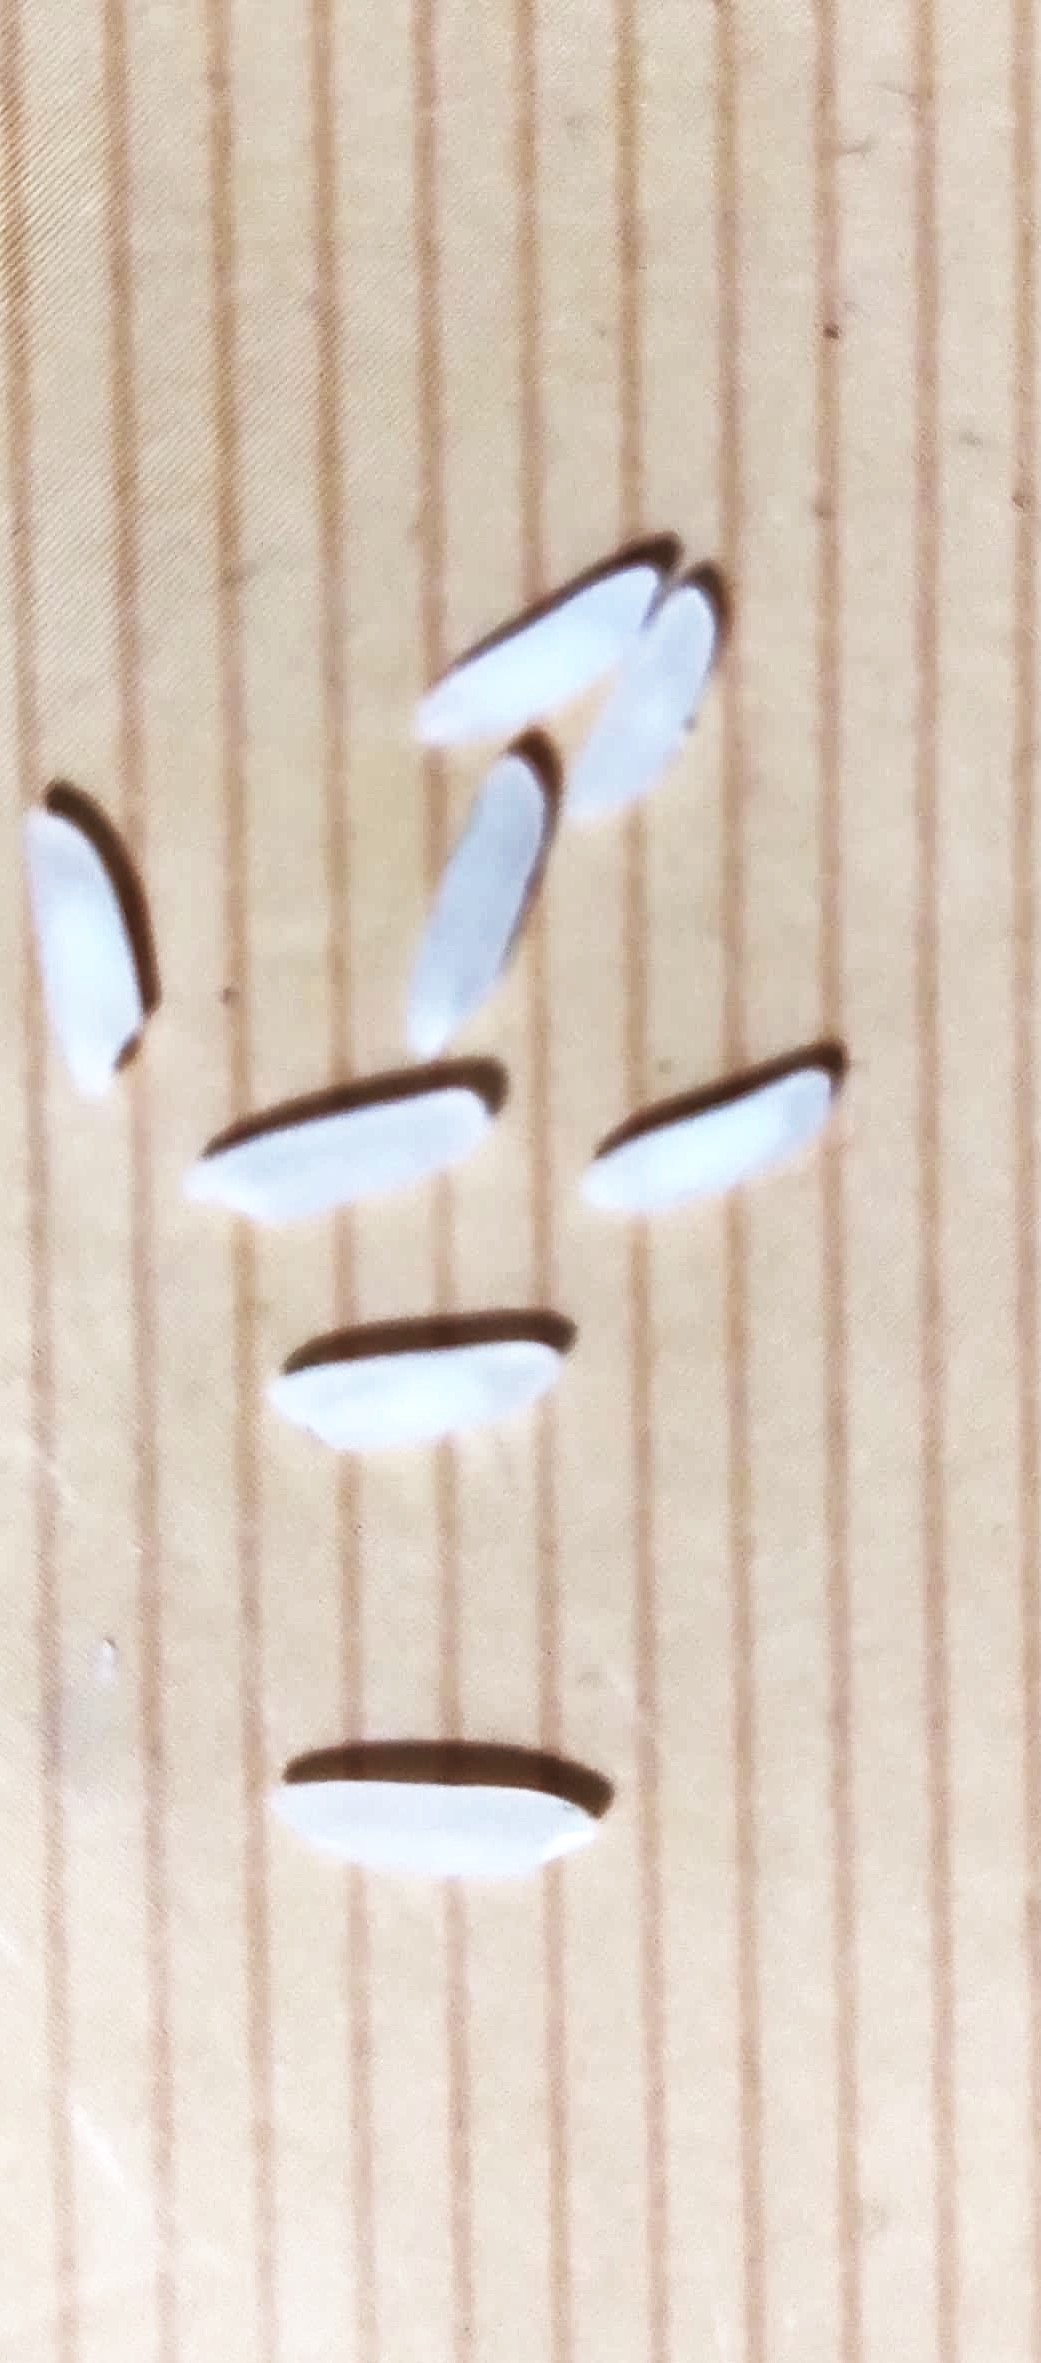complete_grain: (416, 536, 685, 759), (187, 1072, 519, 1243), (262, 1754, 635, 1902), (273, 1313, 585, 1488), (400, 747, 564, 1077), (562, 581, 757, 847), (580, 1043, 846, 1220), (16, 802, 164, 1102)
